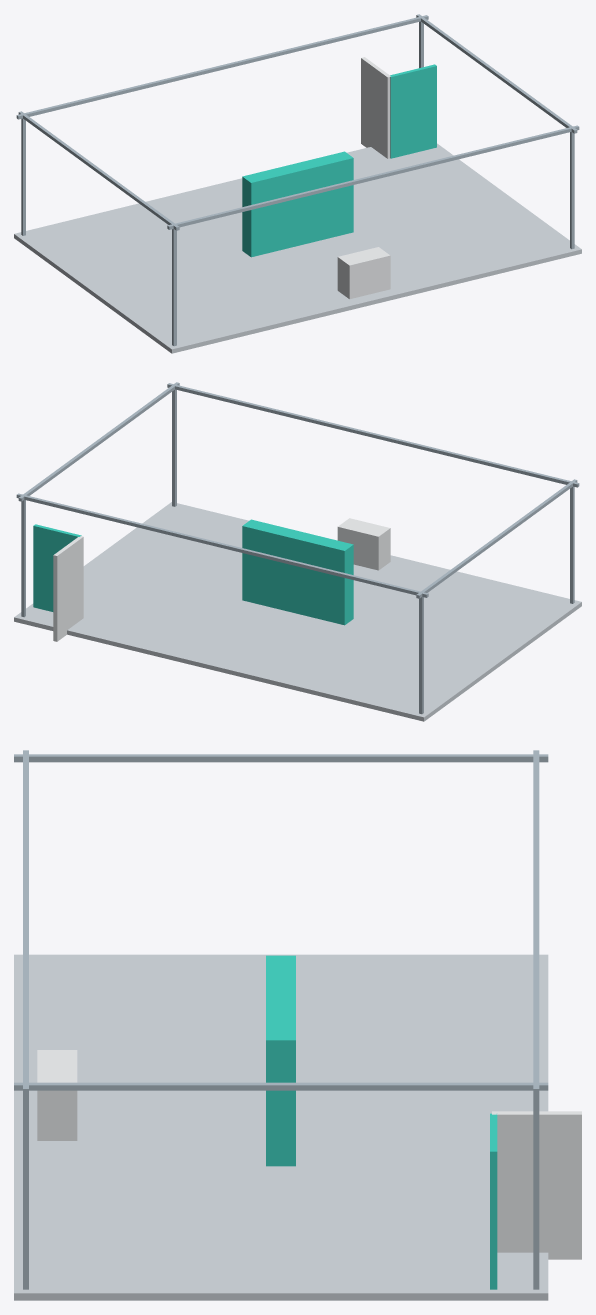
3 views of the same model, one above another, from view 1: azimuth 30°, elevation 25°; view 2: azimuth 150°, elevation 25°; view 3: azimuth 270°, elevation 25° (orthographic). The views are drawn at different scales.
Visible parts, largest first — view 1: Exhibition Booth Concept; view 2: Exhibition Booth Concept; view 3: Exhibition Booth Concept.
Boxes of the visible parts, <box> form: Exhibition Booth Concept: <box>14,14,581,353</box>; Exhibition Booth Concept: <box>14,382,581,721</box>; Exhibition Booth Concept: <box>14,750,581,1300</box>.
Size of the model in its own units: 12 by 3.49 by 8.51.
